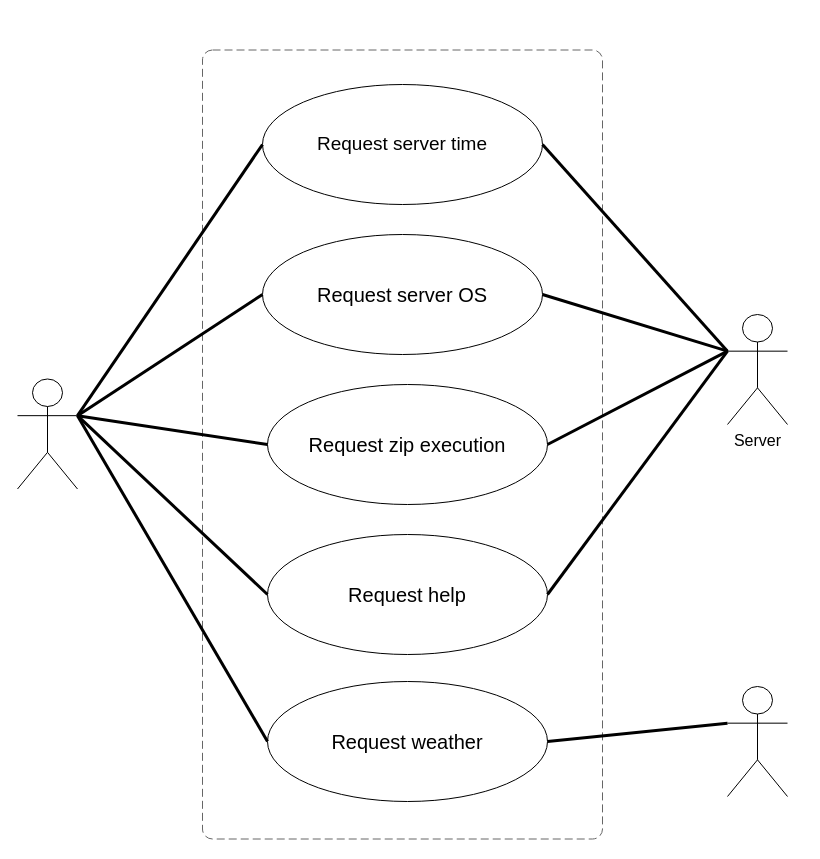
Some shapes in this 820 by 859 pixel diagram are drawn without their labels. Here are the shapes that lost their labels. From the top down, the box of each, then its label:
(16, 378, 78, 489): Client
(202, 49, 602, 839): Client-server application
(726, 686, 788, 796): Weather API
